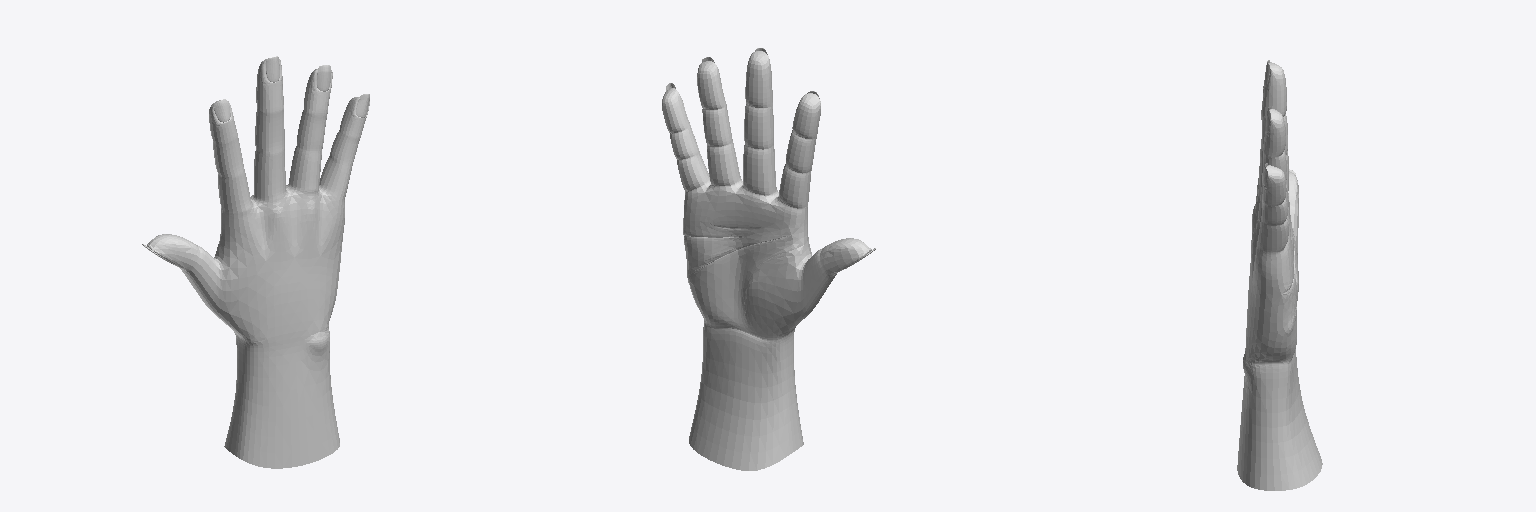
Rendered from hand2.obj.
3 views of the same model, side by side, from view 1: azimuth 30°, elevation 25°; view 2: azimuth 150°, elevation 25°; view 3: azimuth 270°, elevation 25° (orthographic).
Parts seen in each view (by area): view 1: Box04; view 2: Box04; view 3: Box04.
Boxes of the visible parts, x1,y1,x2,y2 form: Box04: [142, 56, 369, 468]; Box04: [662, 48, 875, 470]; Box04: [1237, 60, 1322, 490].
Size of the model in its own units: 0.9718 by 1.72 by 0.3314.